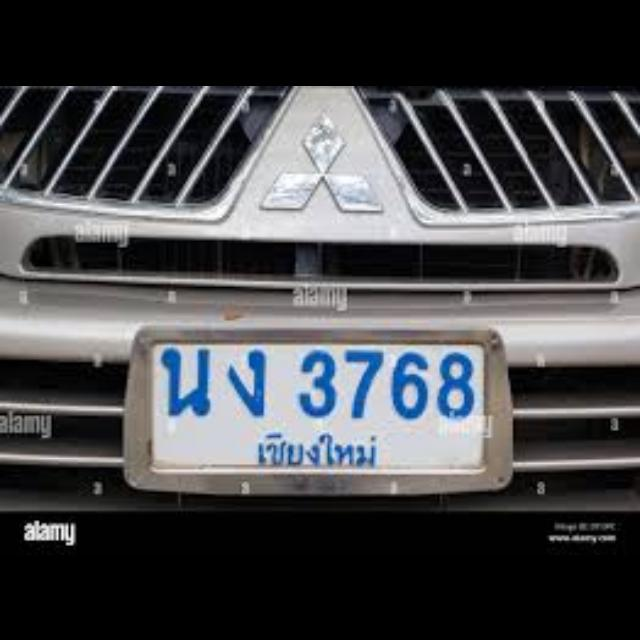licenseplate: (124, 324, 518, 492)
